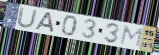0: (60, 15, 79, 37)
3: (104, 22, 122, 44), (81, 18, 98, 40)
A: (33, 11, 55, 34)
M: (119, 25, 144, 49)
U: (16, 7, 39, 30)
